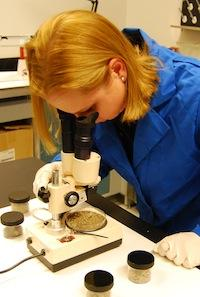person: (23, 11, 200, 269)
